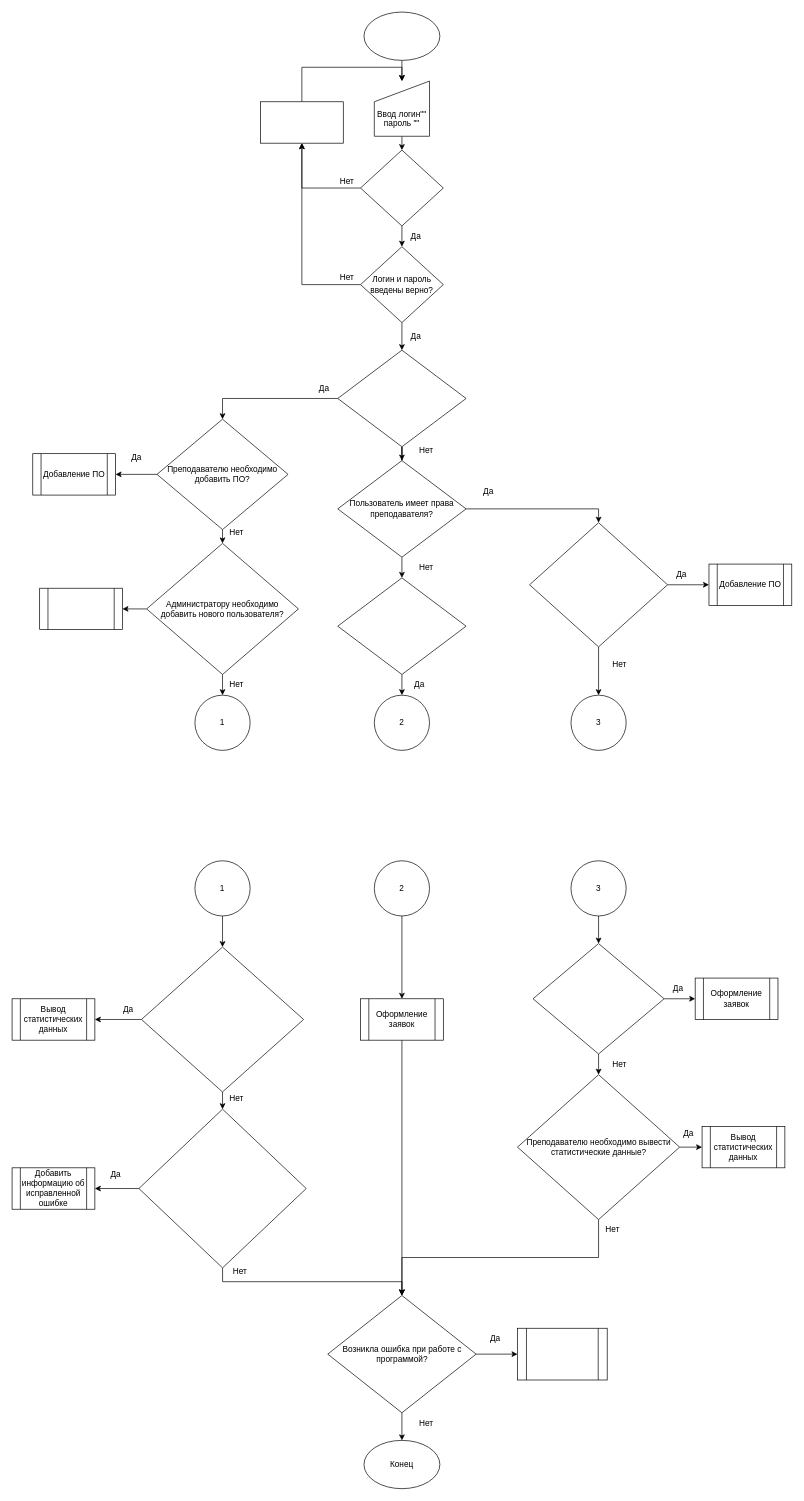
Some shapes in this 804 by 1501 pixel diagram are drawn without their labels. Each missing label, with the centre of its shape:
Администратору необходимо вывести статистические данные?: point (222, 1019)
Администратору необходимо добавить данные об исправленной ошибке?: point (222, 1188)
Все поля заполнены?: point (401, 187)
Вывод сообщения "Неверный логин или пароль": point (301, 122)
Добавление нового пользователя: point (80, 609)
Начало: point (401, 35)
Отправить сообщение об ошибке на email администратору: point (562, 1354)
Пользователь имеет права администратора?: point (401, 398)
Пользователь имеет права студента?: point (401, 625)
Преподавателю необходимо оформить заказ?: point (598, 998)
Студенту необходимо добавить ПО?: point (598, 584)
